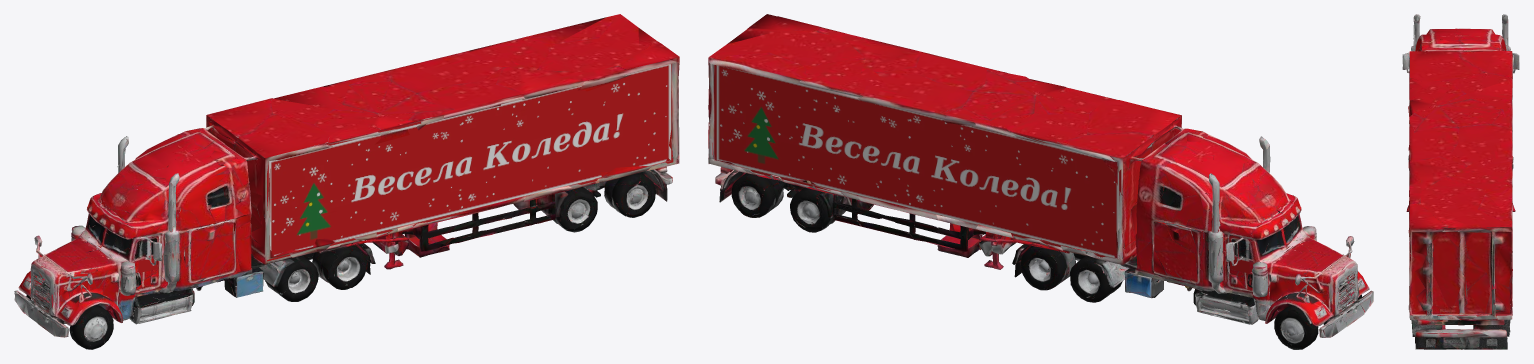
The model's file is xmas-truck.glb.
3 views of the same model, side by side, from view 1: azimuth 30°, elevation 25°; view 2: azimuth 150°, elevation 25°; view 3: azimuth 270°, elevation 25° (orthographic). The views are drawn at different scales.
Visible parts, largest first — view 1: Body, Decal; view 2: Body, Decal; view 3: Body.
Part boxes in pixels (left/top/right/bottom): Body: left=14, top=14, right=679, bottom=349; Decal: left=138, top=64, right=673, bottom=272; Body: left=708, top=14, right=1373, bottom=349; Decal: left=714, top=29, right=1249, bottom=273; Body: left=1402, top=14, right=1519, bottom=349.
Bounding box in the file's own units: 1.91 × 0.4661 × 0.3624.
Materials: 3 (3 with a texture image).
